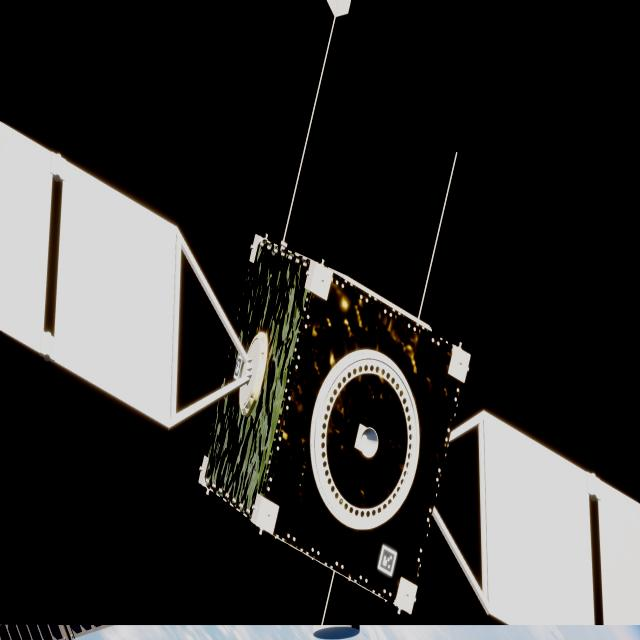satellite: (1, 122, 640, 628)
